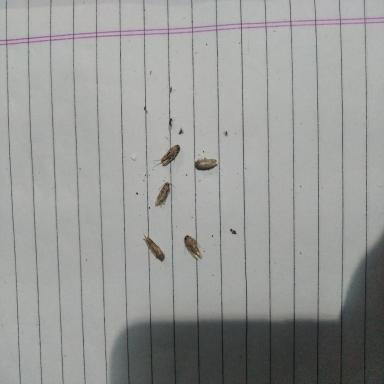pbw: (143, 234, 165, 262), (153, 144, 180, 166), (154, 182, 176, 208), (183, 234, 203, 260), (194, 157, 218, 170)
